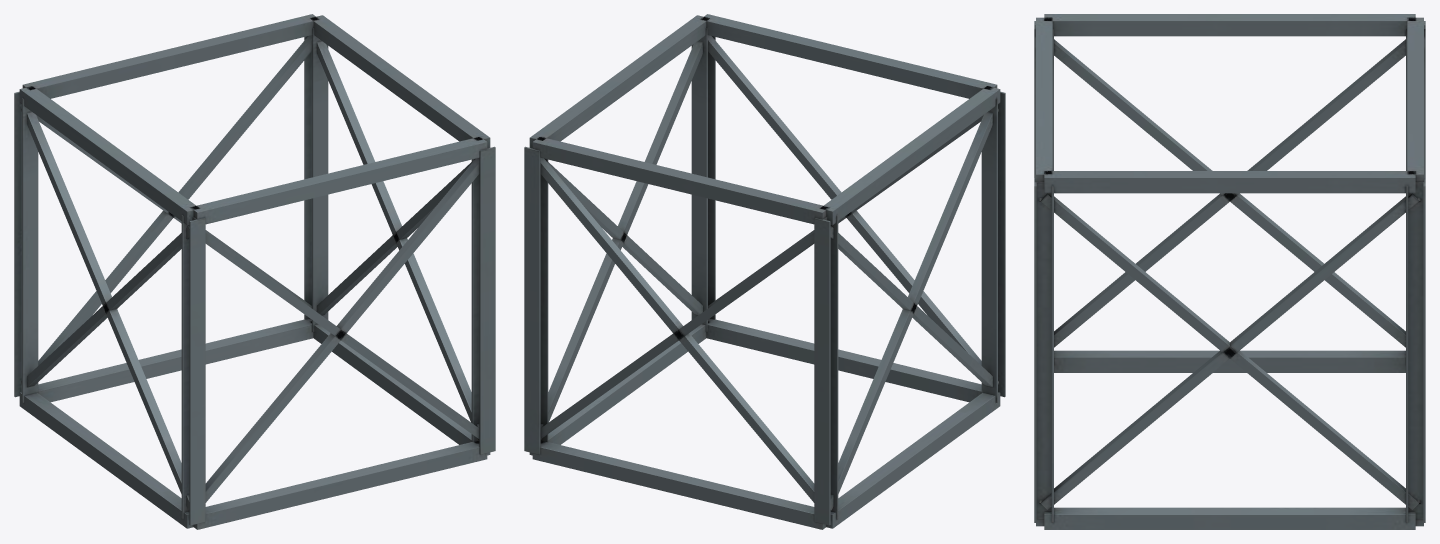
File: tower_bay_lod.glb
3 renders of one model, left to right at view 1: azimuth 30°, elevation 25°; view 2: azimuth 150°, elevation 25°; view 3: azimuth 270°, elevation 25°, orthographic. The views are drawn at different scales.
Parts seen in each view (by area): view 1: body; view 2: body; view 3: body.
Boxes of the visible parts, x1,y1,x2,y2 form: body: (14,14,495,529); body: (524,14,1005,529); body: (1034,14,1425,529).
Size of the model in its own units: 6.32 by 6.27 by 6.32.
Materials: 1 (1 with a texture image).
